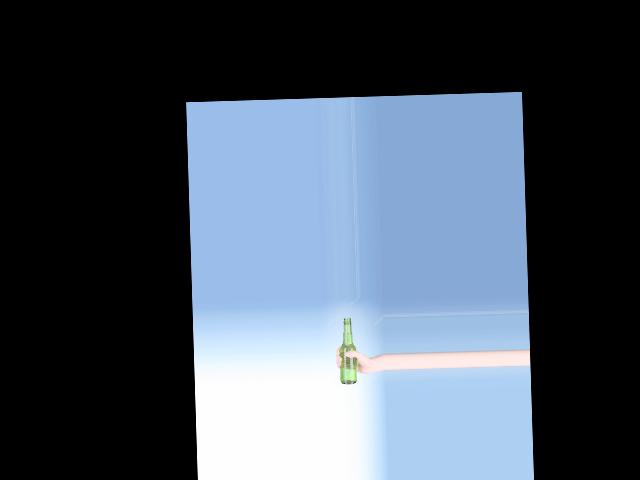beer: (339, 317, 357, 384)
